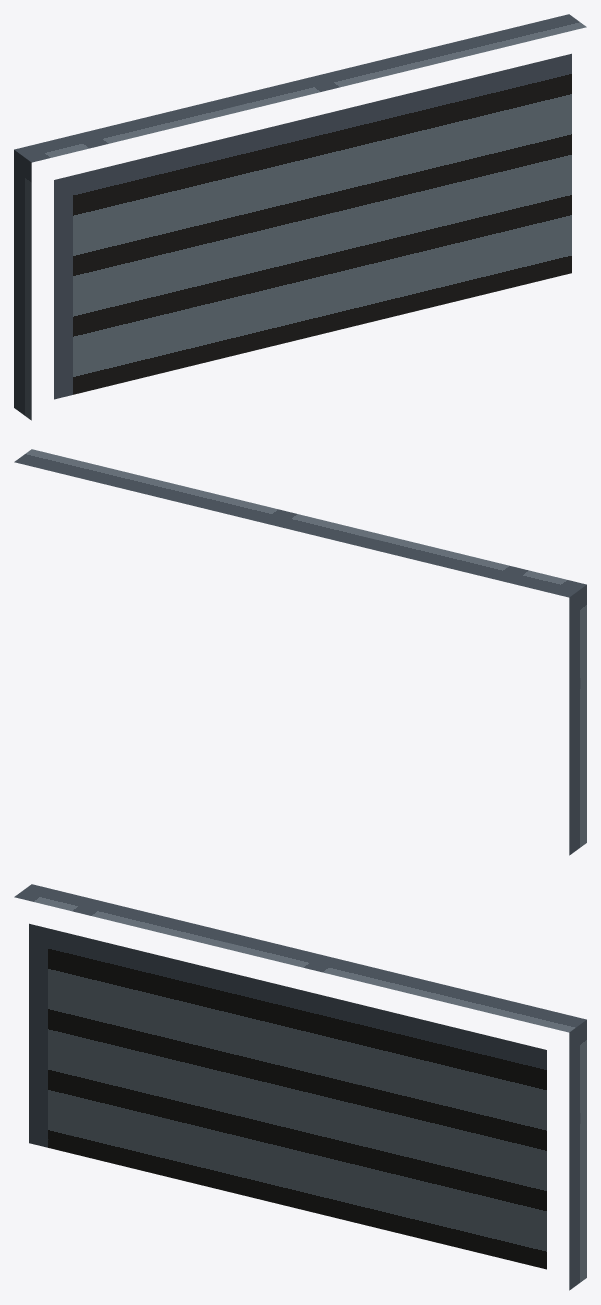
Rendered from vent.glb.
The picture shows the model from 3 angles, top to bottom: view 1: azimuth 30°, elevation 25°; view 2: azimuth 150°, elevation 25°; view 3: azimuth 330°, elevation 25°; orthographic projection.
Parts seen in each view (by area): view 1: vent mesh; view 2: vent mesh; view 3: vent mesh.
Part boxes in pixels (<box>): vent mesh: <box>14,14,586,420</box>; vent mesh: <box>14,449,586,855</box>; vent mesh: <box>14,884,586,1290</box>.
Size of the model in its own units: 0.9 by 0.4 by 0.06.
Materials: 2 (2 with a texture image).
